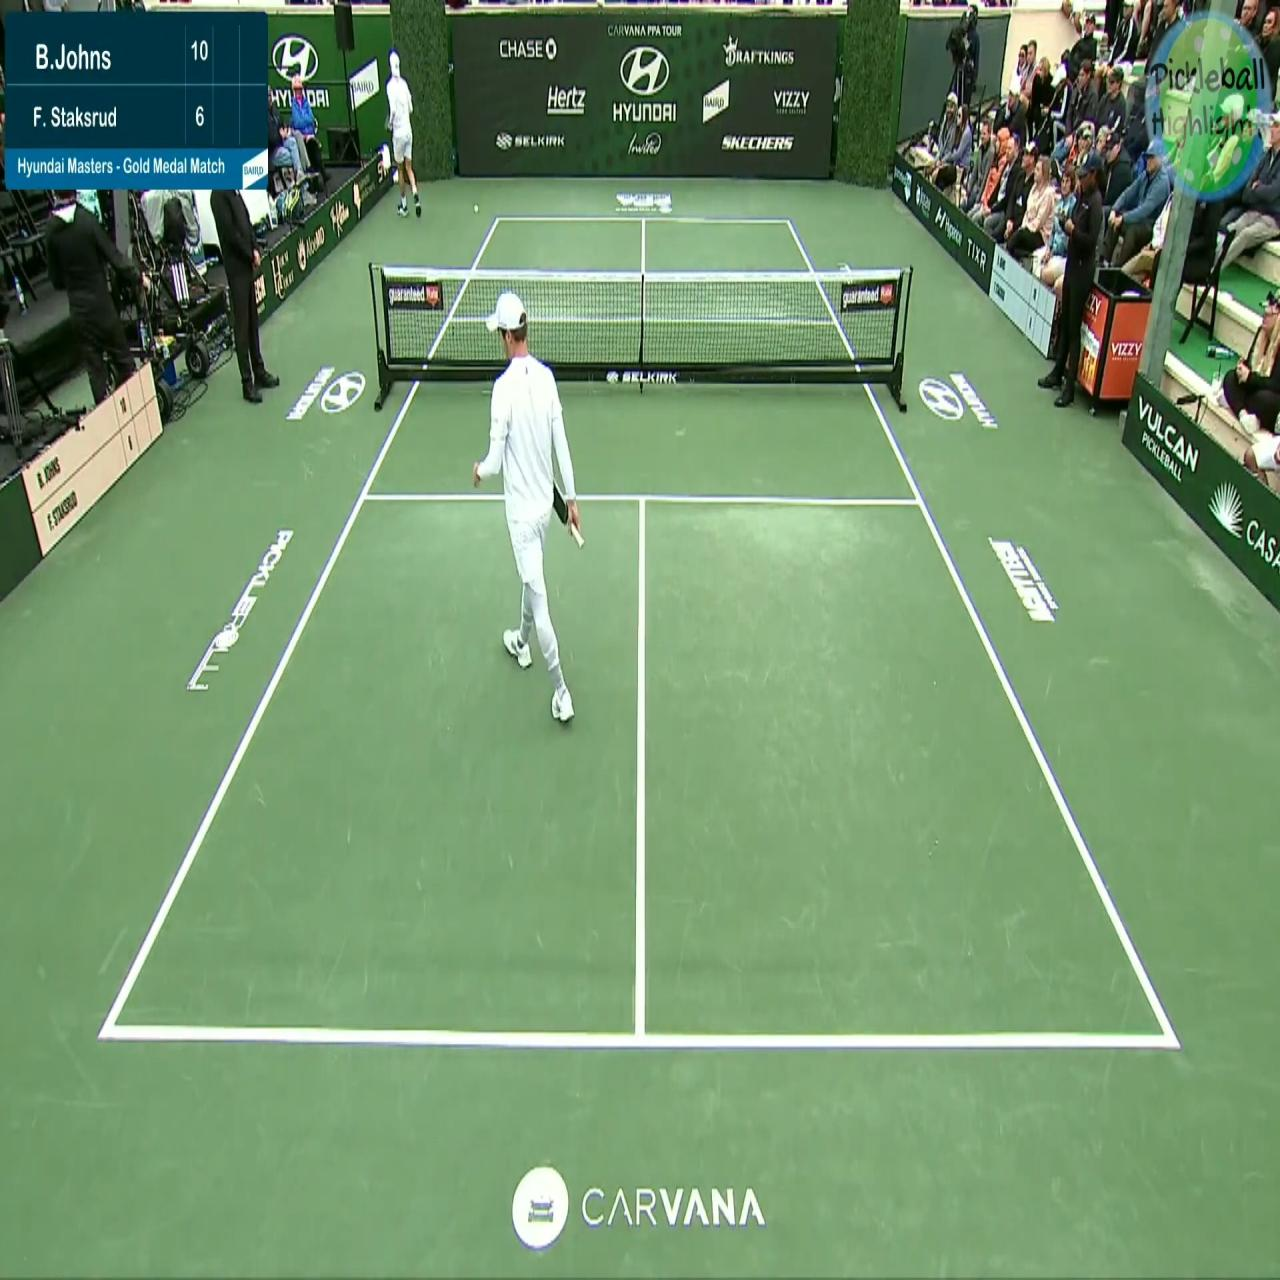pickleball: (474, 204, 478, 212)
